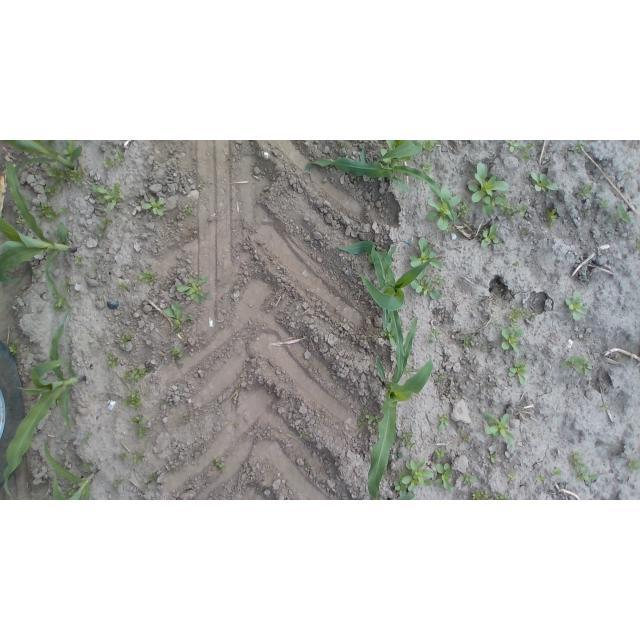Maize: (335, 239, 441, 384), (2, 308, 81, 497), (355, 316, 435, 497), (307, 142, 457, 227), (1, 162, 82, 309), (43, 438, 99, 499), (1, 142, 82, 171)
Weeds: (469, 163, 513, 214), (425, 185, 460, 232), (175, 273, 214, 307), (409, 239, 446, 274), (403, 455, 435, 490), (570, 453, 600, 487), (486, 411, 517, 443), (45, 171, 83, 194), (166, 306, 197, 334), (96, 187, 127, 214), (412, 277, 444, 303), (563, 290, 589, 322), (528, 170, 559, 196), (35, 200, 70, 222), (559, 356, 593, 377), (141, 196, 167, 222), (478, 221, 503, 248), (389, 476, 418, 499), (96, 149, 126, 171), (436, 461, 456, 493), (501, 327, 524, 354), (508, 361, 531, 386), (509, 306, 539, 323), (614, 202, 633, 227), (576, 181, 595, 206), (130, 414, 148, 439), (125, 366, 151, 383), (123, 390, 146, 409), (380, 322, 396, 346), (139, 270, 162, 286), (471, 491, 510, 500), (53, 297, 71, 316), (460, 332, 479, 350), (170, 346, 187, 366), (355, 414, 381, 427), (104, 353, 121, 371), (96, 219, 114, 235), (547, 210, 560, 230), (401, 432, 417, 448), (516, 205, 529, 224), (463, 472, 477, 489), (119, 334, 135, 348), (429, 330, 442, 347), (507, 141, 522, 155), (73, 258, 87, 273), (435, 447, 449, 461), (214, 457, 227, 472), (628, 458, 640, 474), (183, 204, 197, 217), (65, 484, 80, 496), (437, 416, 448, 432), (116, 281, 129, 294), (9, 343, 21, 356), (423, 164, 435, 177), (600, 197, 608, 215), (132, 451, 145, 462), (392, 451, 404, 462), (462, 434, 473, 446), (535, 472, 546, 484), (505, 470, 517, 481), (487, 450, 498, 462), (425, 143, 437, 153), (298, 433, 311, 442), (553, 469, 566, 478), (577, 142, 586, 149), (120, 453, 126, 462)
